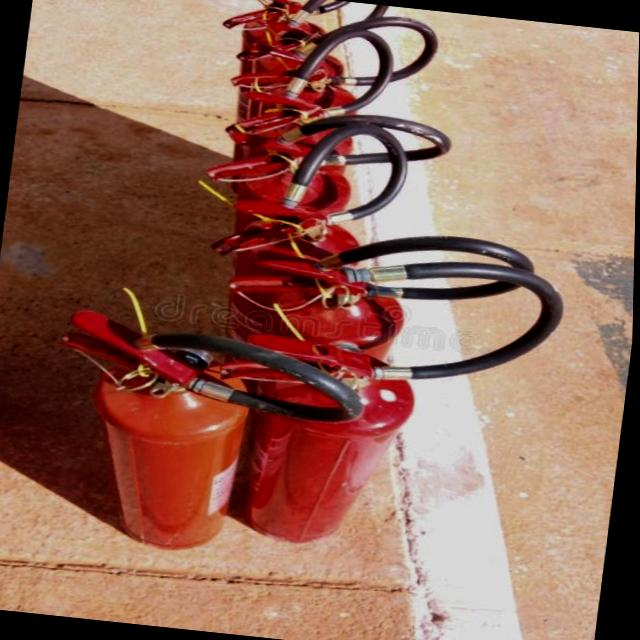FireExtinguisher: (205, 234, 589, 571), (194, 207, 552, 504), (30, 302, 378, 570), (190, 106, 451, 450)
